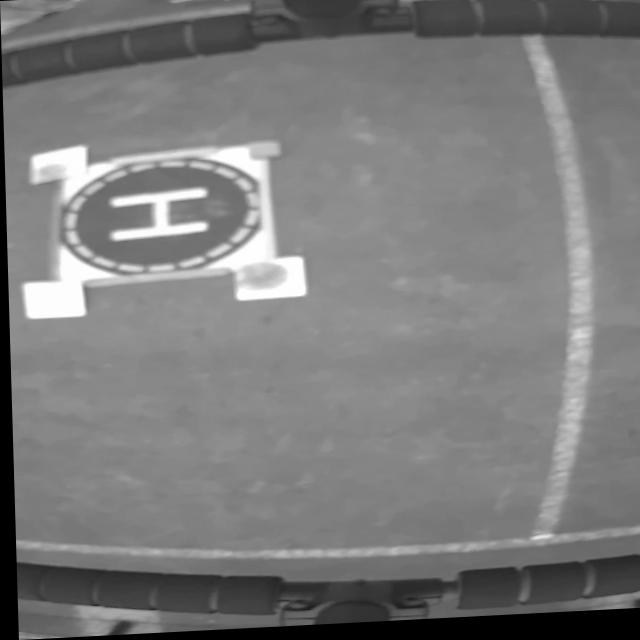Helipad: (108, 188, 209, 242)
